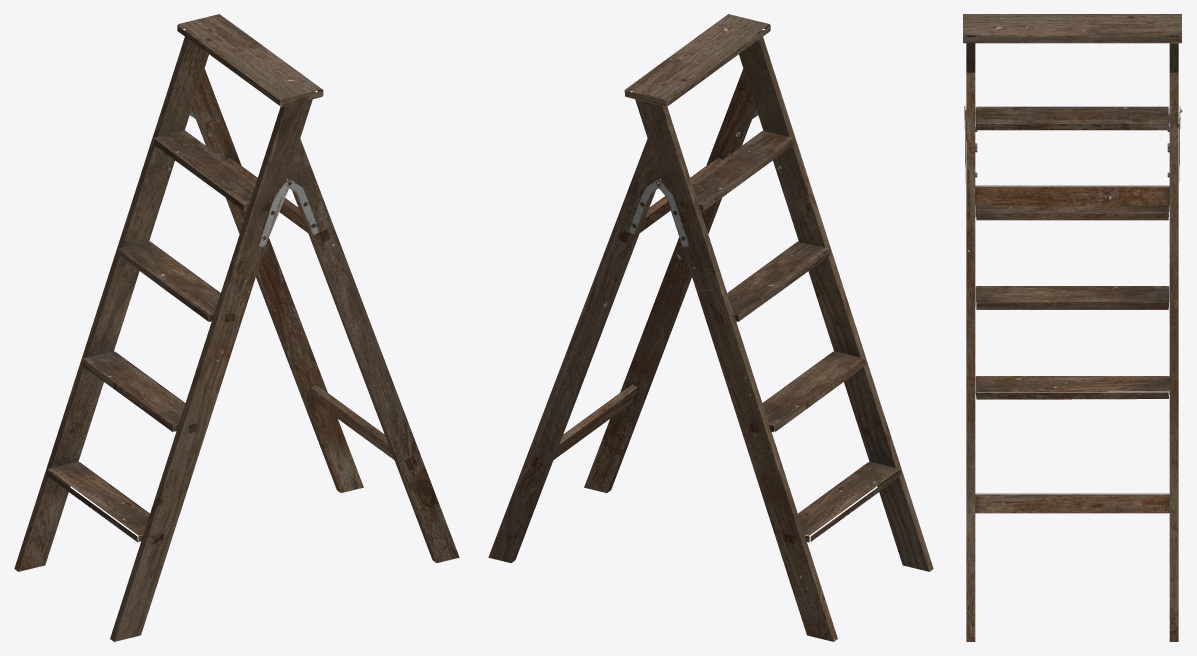
Rendered from ladder.glb.
3 renders of one model, left to right at view 1: azimuth 30°, elevation 25°; view 2: azimuth 150°, elevation 25°; view 3: azimuth 270°, elevation 25°, orthographic. The views are drawn at different scales.
Visible parts, largest first — view 1: wooden_ladder_supports; view 2: wooden_ladder_supports; view 3: wooden_ladder_supports.
Part boxes in pixels (x1,y1,x2,y2): wooden_ladder_supports: (14,14,459,641); wooden_ladder_supports: (488,14,933,641); wooden_ladder_supports: (963,14,1182,641).
Bounding box in the file's own units: 0.9592 × 1.33 × 0.5.
Materials: 1 (1 with a texture image).
